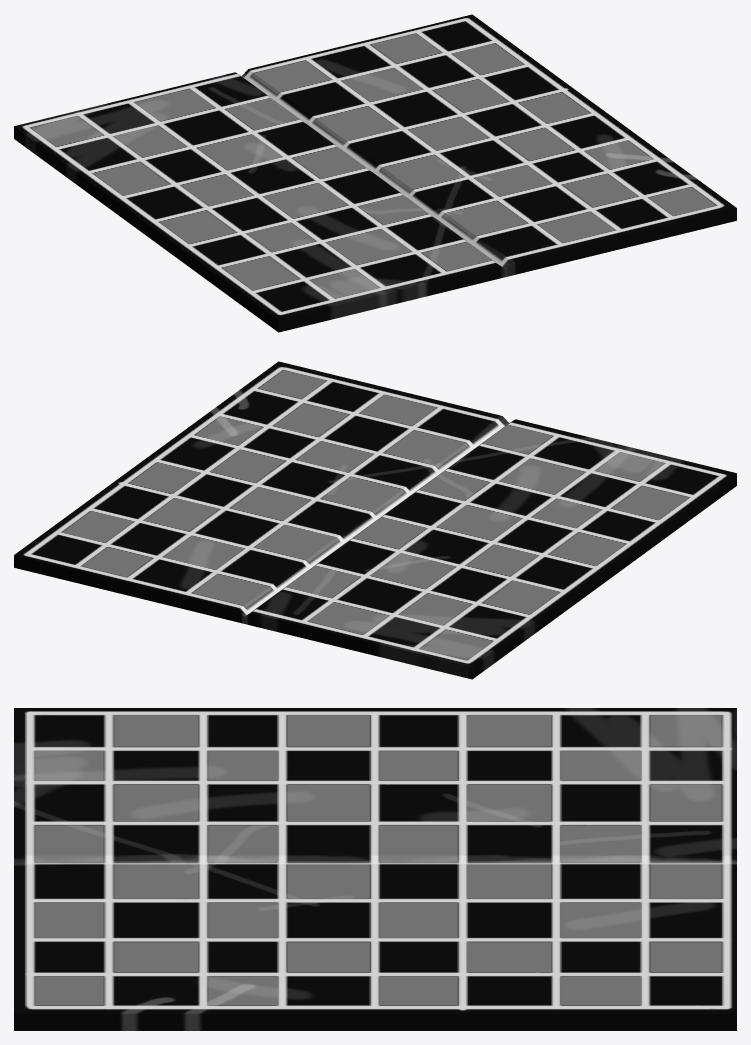
File: obj_Checkerboard.fbx
3 renders of one model, top to bottom at view 1: azimuth 30°, elevation 25°; view 2: azimuth 150°, elevation 25°; view 3: azimuth 270°, elevation 25°, orthographic. The views are drawn at different scales.
Parts seen in each view (by area): view 1: obj_Checkerboard; view 2: obj_Checkerboard; view 3: obj_Checkerboard.
Boxes of the visible parts, box(x1,y1,x2,y2) form: obj_Checkerboard: box(14, 14, 736, 332); obj_Checkerboard: box(14, 361, 736, 679); obj_Checkerboard: box(14, 708, 736, 1030).
Size of the model in its own units: 0.5 by 0.0132 by 0.5.
Materials: 1 (1 with a texture image).
